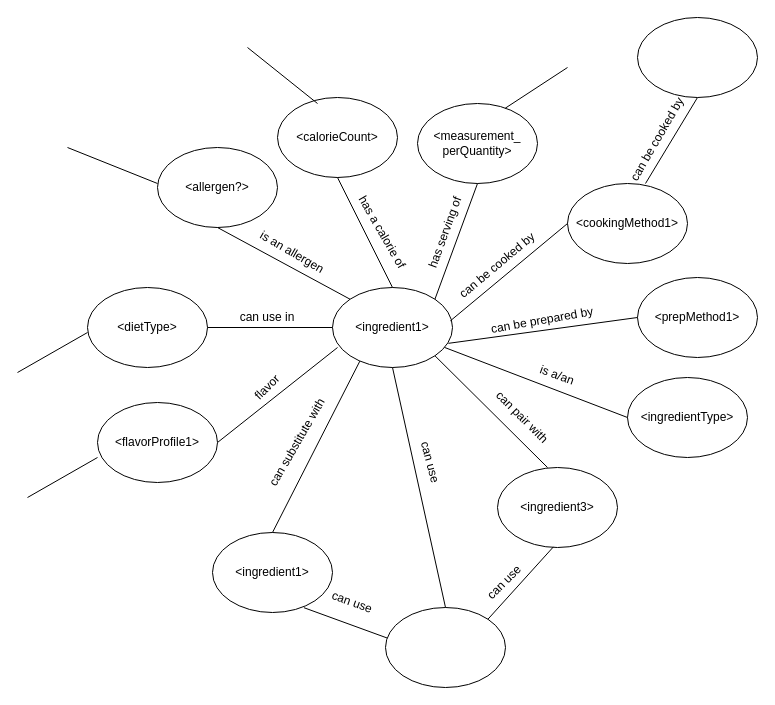
The diagram is 775 pixels wide and 705 high, and some of its shapes have lost their labels. Here are the shapes that lost their labels. From the top down, the box of each, then its label:
(636, 16, 758, 98): <cookingTime >
(384, 606, 506, 688): <Recipe1>
